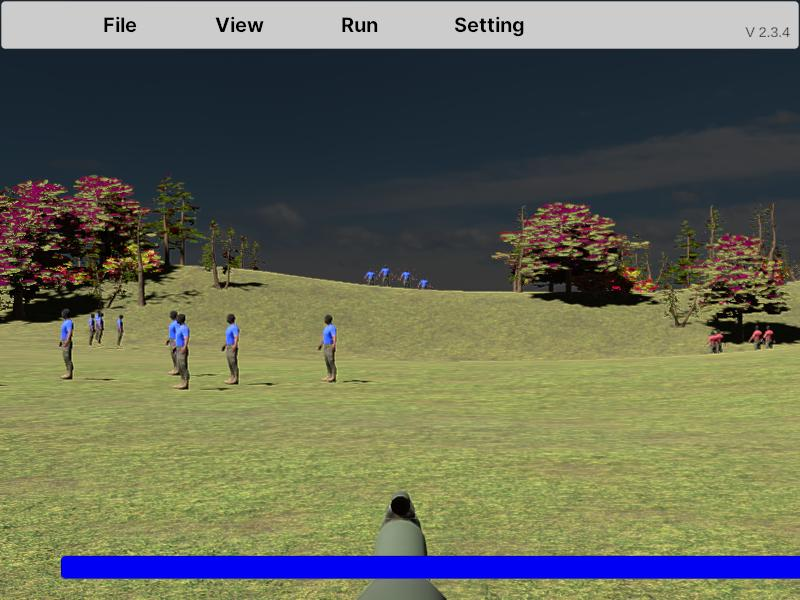Human: (171, 314, 190, 391), (317, 313, 337, 383), (221, 313, 239, 385), (166, 310, 184, 379), (58, 307, 74, 381)
